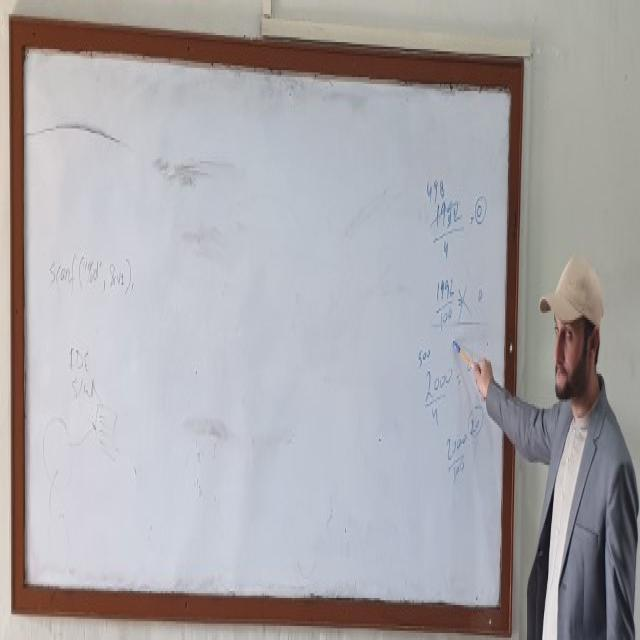Instructor: (514, 239, 637, 640)
White-board: (14, 35, 517, 625)
